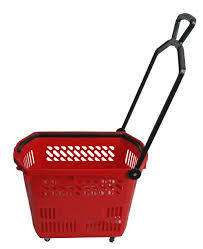with_basket: (14, 12, 196, 243)
